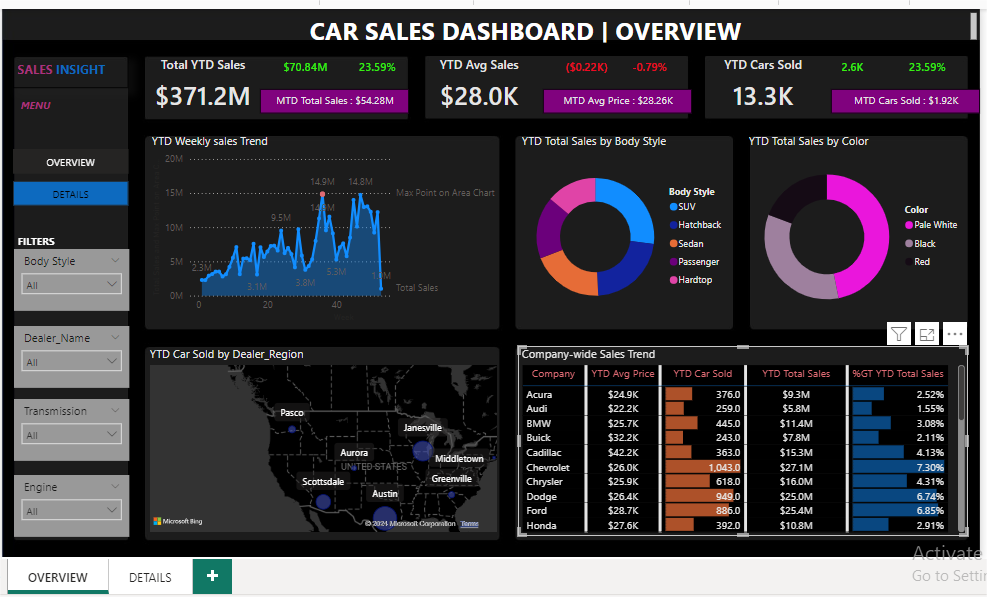

This screenshot's page, from the dashboard's own definition file:
{"tool":"powerbi","page":{"name":"OVERVIEW","canvas":[1280,720],"ordinal":0},"visuals":[{"type":"card","title":"Total YTD Sales","fields":{"Values":["car_data.YTD Total Sales"]},"box":[188.1,62.2,149.5,82.3],"z":0},{"type":"card","title":"Sales Diff between Years","fields":{"Values":["car_data.Sales Difference"]},"box":[356.1,62.2,82.3,31.9],"z":1000},{"type":"card","title":"Sales Diff between Years","fields":{"Values":["car_data.YoY Sales Growth"]},"box":[450.2,62.2,82.3,31.9],"z":2000},{"type":"card","fields":{"Values":["car_data.MTD KPI"]},"box":[337.6,104.1,194.9,31.9],"z":3000},{"type":"card","title":"YTD Avg Sales","fields":{"Values":["car_data.YTD Avg Price"]},"box":[549.3,62.2,149.5,82.3],"z":4000},{"type":"card","title":"Sales Diff between Years","fields":{"Values":["car_data.Avg Price Diff"]},"box":[724,62.2,82.3,31.9],"z":5000},{"type":"card","title":"Sales Diff between Years","fields":{"Values":["car_data.YoY Avg Price Growth"]},"box":[806.3,62.2,82.3,31.9],"z":6000},{"type":"card","fields":{"Values":["car_data.MTD Avg Price KPI"]},"box":[708.9,104.1,194.9,31.9],"z":7000},{"type":"card","title":"YTD Cars Sold","fields":{"Values":["car_data.YTD Car Sold"]},"box":[922.2,62.2,149.5,82.3],"z":8000},{"type":"card","title":"Sales Diff between Years","fields":{"Values":["car_data.Cars Sold Diff"]},"box":[1071.7,62.2,82.3,31.9],"z":9000},{"type":"card","title":"Sales Diff between Years","fields":{"Values":["car_data.YoY Sales Growth"]},"box":[1170.8,62.2,82.3,31.9],"z":10000},{"type":"card","fields":{"Values":["car_data.MTD Cars Sold KPI"]},"box":[1085.1,104.1,194.9,31.9],"z":11000},{"type":"areaChart","title":"YTD Weekly sales Trend","fields":{"Category":["calendar.Week"],"Y":["calendar.Total Sales","calendar.Max Point on Area Chart"]},"box":[191.5,162.9,461.9,252],"z":12000},{"type":"donutChart","fields":{"Category":["car_data.Body Style"],"Y":["car_data.YTD Total Sales"]},"box":[675.3,162.9,280.5,252],"z":13000},{"type":"donutChart","fields":{"Y":["car_data.YTD Total Sales"],"Category":["car_data.Color"]},"box":[972.6,162.9,292.3,252],"z":14000},{"type":"map","fields":{"Category":["car_data.Dealer_Region"],"Size":["car_data.YTD Car Sold"]},"box":[188.1,441.8,465.3,248.6],"z":15000},{"type":"tableEx","title":"Company-wide Sales Trend","fields":{"Values":["car_data.Company","car_data.YTD Avg Price","car_data.YTD Car Sold","car_data.YTD Total Sales1","car_data.YTD Total Sales"]},"box":[675.3,441.8,589.6,248.6],"z":16000},{"type":"textbox","box":[397.4,0,882.7,49],"z":17000},{"type":"slicer","fields":{"Values":["car_data.Body Style"]},"box":[15.1,314.1,151.2,80.6],"z":18000},{"type":"slicer","fields":{"Values":["car_data.Dealer_Name"]},"box":[15.1,414.9,151.2,80.6],"z":19000},{"type":"slicer","fields":{"Values":["car_data.Transmission"]},"box":[15.1,510.7,151.2,80.6],"z":20000},{"type":"slicer","fields":{"Values":["car_data.Engine"]},"box":[15.1,609.8,151.2,80.6],"z":21000},{"type":"textbox","box":[15.1,288.9,75.6,30.2],"z":22000},{"type":"textbox","box":[14.4,61.9,151.2,41.8],"z":23000},{"type":"textbox","box":[14.4,110.9,59,33.1],"z":24000},{"type":"pageNavigator","box":[14.4,182.9,151.2,74.9],"z":25000}]}

Visuals, with their boxes on the page's 1280x720 design canvas (x1, y1, x2, y2). These are canvas units, not pixel positions in the 987x597 screenshot, which may show the page scaled, cropped or inside an application window:
"Total YTD Sales" card: box=[188, 62, 338, 144]
"Sales Diff between Years" card: box=[356, 62, 438, 94]
"Sales Diff between Years" card: box=[450, 62, 532, 94]
card - car_data.MTD KPI: box=[338, 104, 532, 136]
"YTD Avg Sales" card: box=[549, 62, 699, 144]
"Sales Diff between Years" card: box=[724, 62, 806, 94]
"Sales Diff between Years" card: box=[806, 62, 889, 94]
card - car_data.MTD Avg Price KPI: box=[709, 104, 904, 136]
"YTD Cars Sold" card: box=[922, 62, 1072, 144]
"Sales Diff between Years" card: box=[1072, 62, 1154, 94]
"Sales Diff between Years" card: box=[1171, 62, 1253, 94]
card - car_data.MTD Cars Sold KPI: box=[1085, 104, 1280, 136]
"YTD Weekly sales Trend" areaChart: box=[192, 163, 653, 415]
donutChart - car_data.Body Style x car_data.YTD Total Sales: box=[675, 163, 956, 415]
donutChart - car_data.YTD Total Sales x car_data.Color: box=[973, 163, 1265, 415]
map - car_data.Dealer_Region x car_data.YTD Car Sold: box=[188, 442, 653, 690]
"Company-wide Sales Trend" tableEx: box=[675, 442, 1265, 690]
textbox: box=[397, 0, 1280, 49]
slicer - car_data.Body Style: box=[15, 314, 166, 395]
slicer - car_data.Dealer_Name: box=[15, 415, 166, 496]
slicer - car_data.Transmission: box=[15, 511, 166, 591]
slicer - car_data.Engine: box=[15, 610, 166, 690]
textbox: box=[15, 289, 91, 319]
textbox: box=[14, 62, 166, 104]
textbox: box=[14, 111, 73, 144]
pageNavigator: box=[14, 183, 166, 258]
